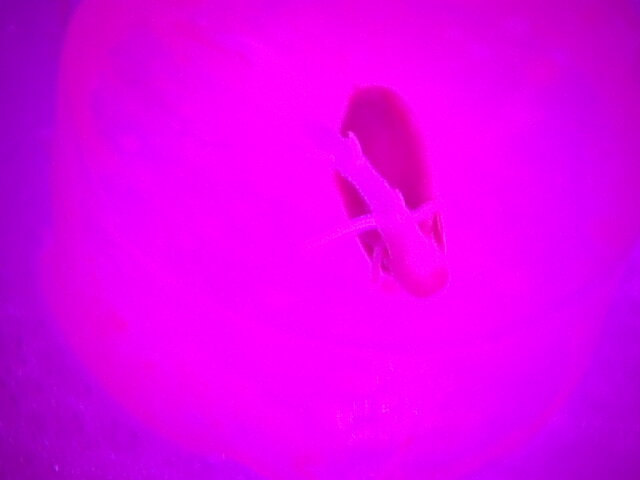sprout: (275, 86, 498, 309)
